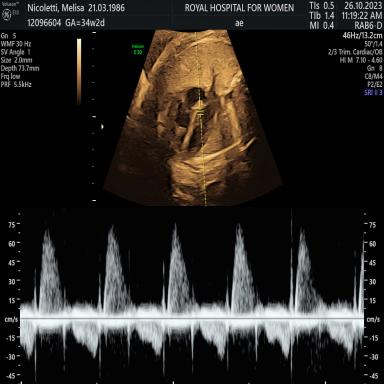Ultrasound-Waves: (24, 211, 360, 384)
